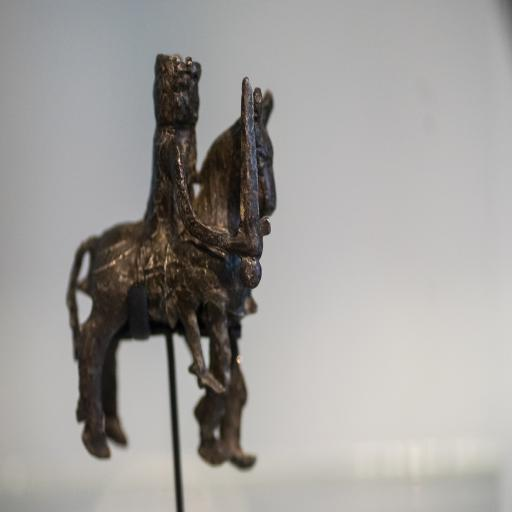horse: (63, 89, 280, 472)
